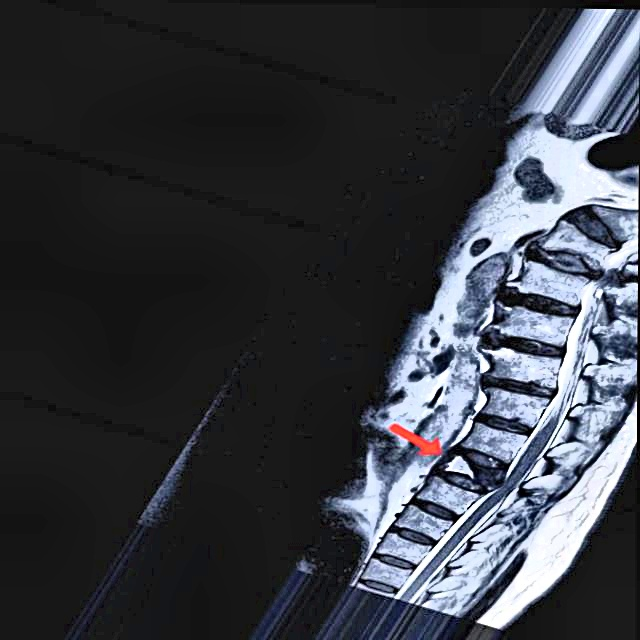Comminuted: (425, 436, 524, 505)
